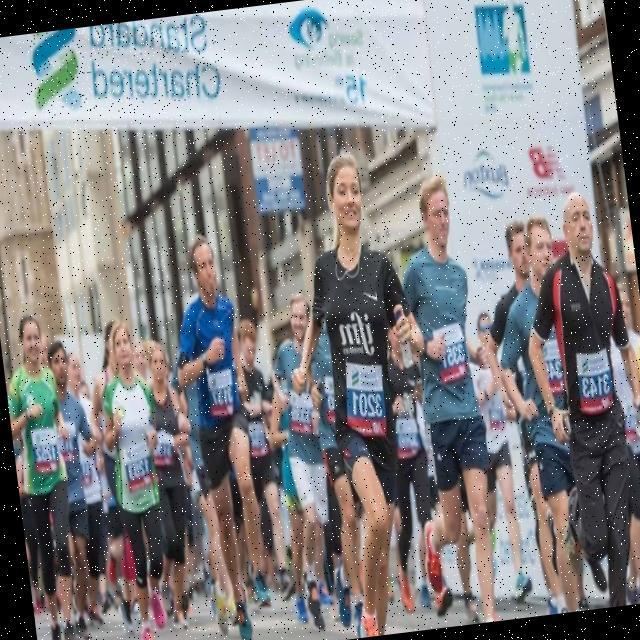Nike: (362, 290, 377, 303)
Standard Chartered: (28, 11, 223, 121)
